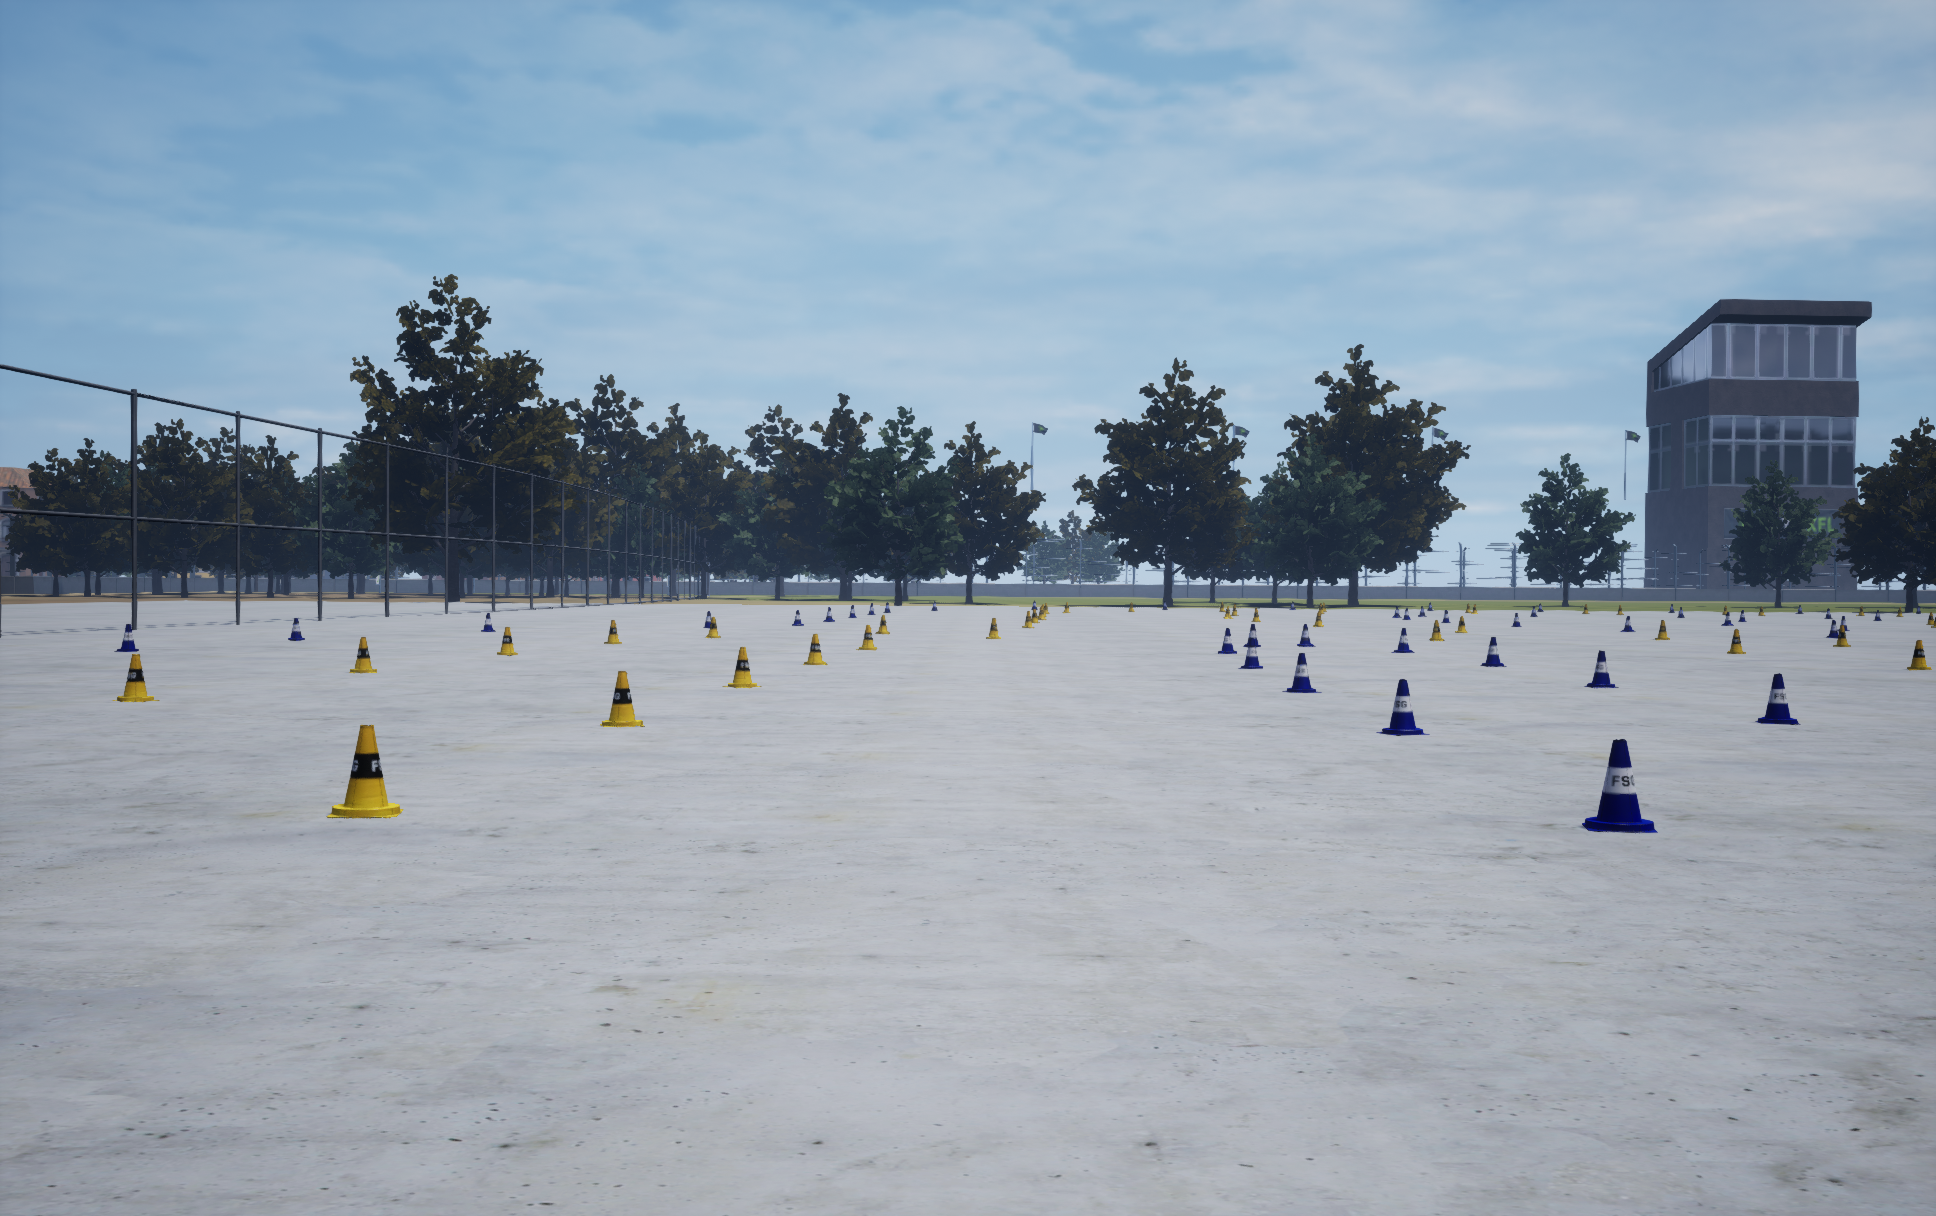blue: (326, 726, 403, 817), (600, 671, 644, 726), (112, 654, 160, 700), (721, 647, 761, 686), (349, 637, 375, 672), (1907, 640, 1930, 670), (803, 635, 827, 664), (497, 628, 517, 656), (856, 625, 876, 649), (1727, 629, 1745, 653), (1832, 625, 1851, 646), (604, 621, 621, 643), (705, 616, 720, 637), (1429, 621, 1444, 640), (1653, 621, 1668, 639), (986, 618, 1000, 637), (876, 615, 890, 633)
yellow: (1582, 740, 1657, 832), (1376, 679, 1429, 735), (1755, 672, 1800, 724), (1282, 653, 1321, 692), (1584, 650, 1618, 686), (1479, 637, 1506, 665), (1238, 637, 1262, 668), (113, 623, 139, 651), (1391, 628, 1413, 651), (1217, 628, 1236, 653), (1297, 623, 1315, 646), (1243, 623, 1259, 646), (289, 618, 304, 640), (480, 614, 495, 630)
